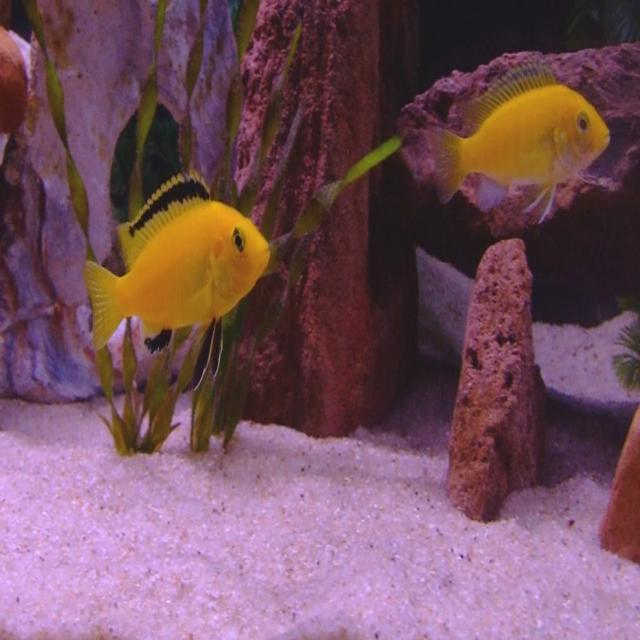YellowCichlid: (72, 162, 277, 376), (418, 50, 626, 226)
